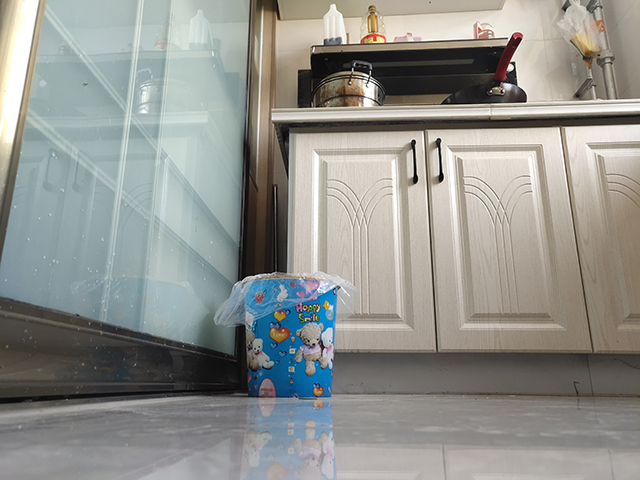cabinet: (268, 97, 640, 400)
trashcan: (241, 273, 343, 399)
